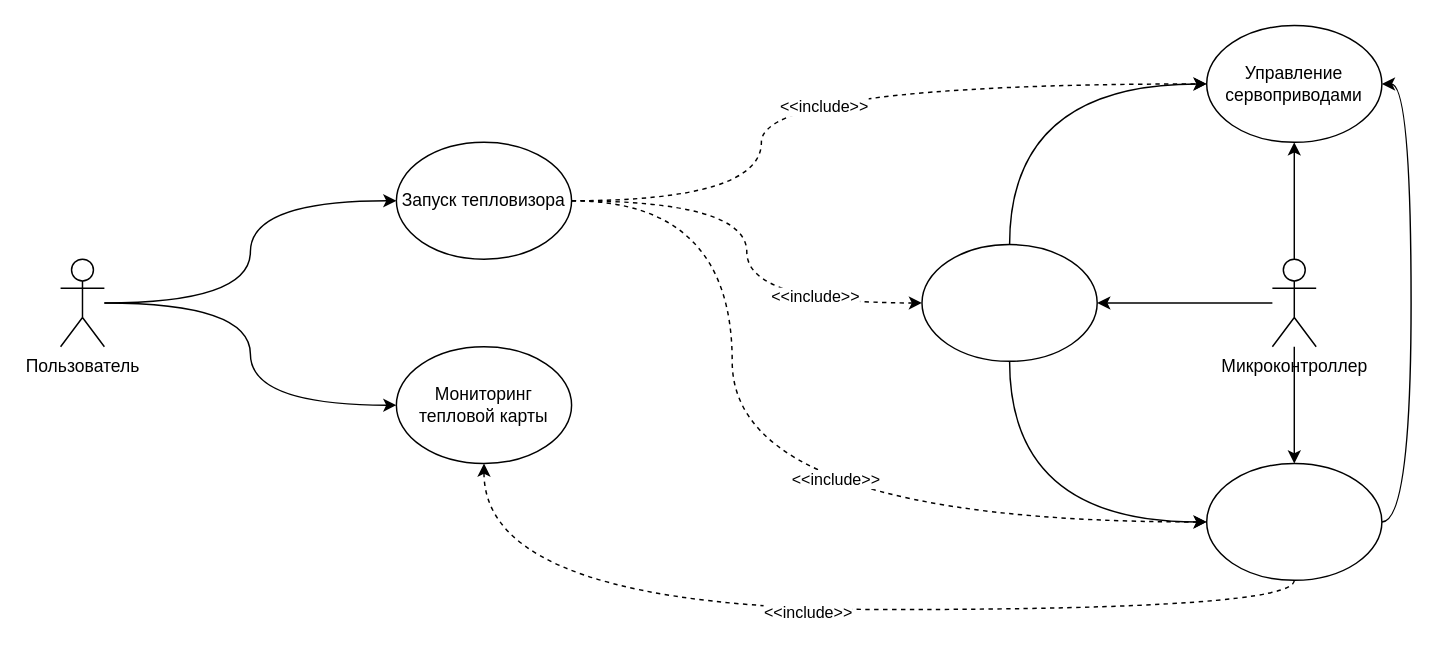
Some shapes in this 1437 by 647 pixel diagram are drawn without their labels. The centre of each missing label's shape, as x and y in pixels:
"Обработка данных сенсора" goes at pixel 1009 302.
"Отображение тепловой карты" goes at pixel 1293 521.
